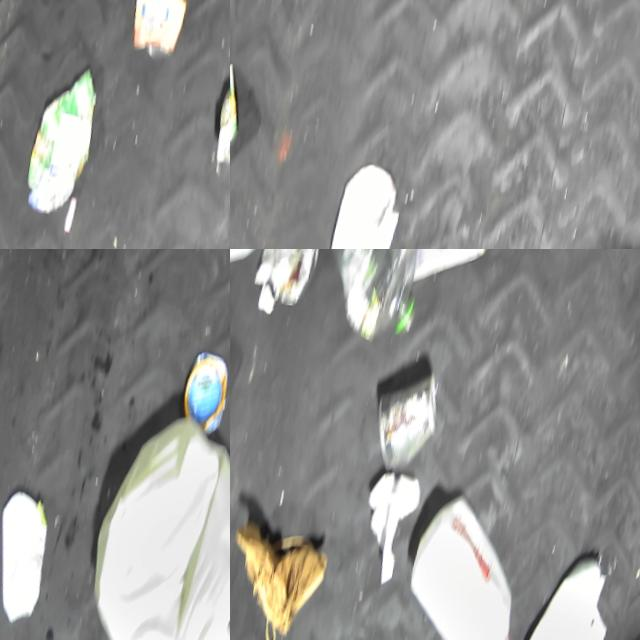can: (366, 371, 441, 483), (175, 352, 230, 444), (122, 0, 193, 66), (230, 55, 248, 184)
milk_jug: (67, 404, 230, 640), (392, 488, 530, 640)
non_white_jug: (19, 62, 103, 220)
plastic_bottle: (313, 249, 438, 354)
